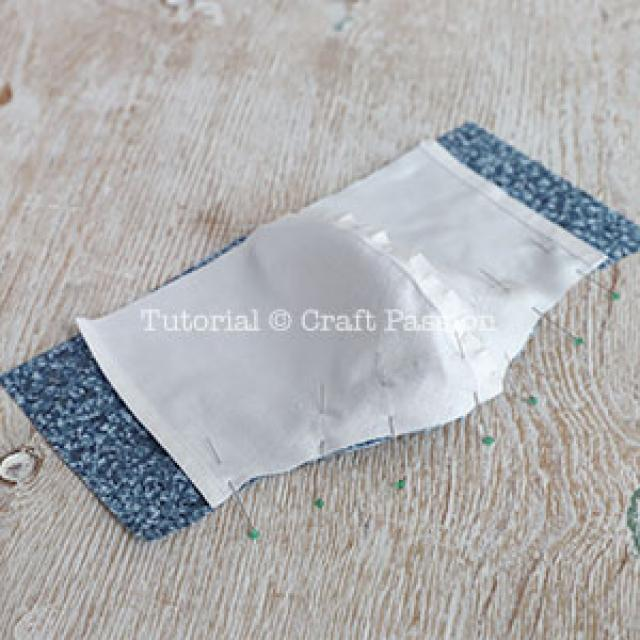non-organic waste: (11, 111, 627, 531)
